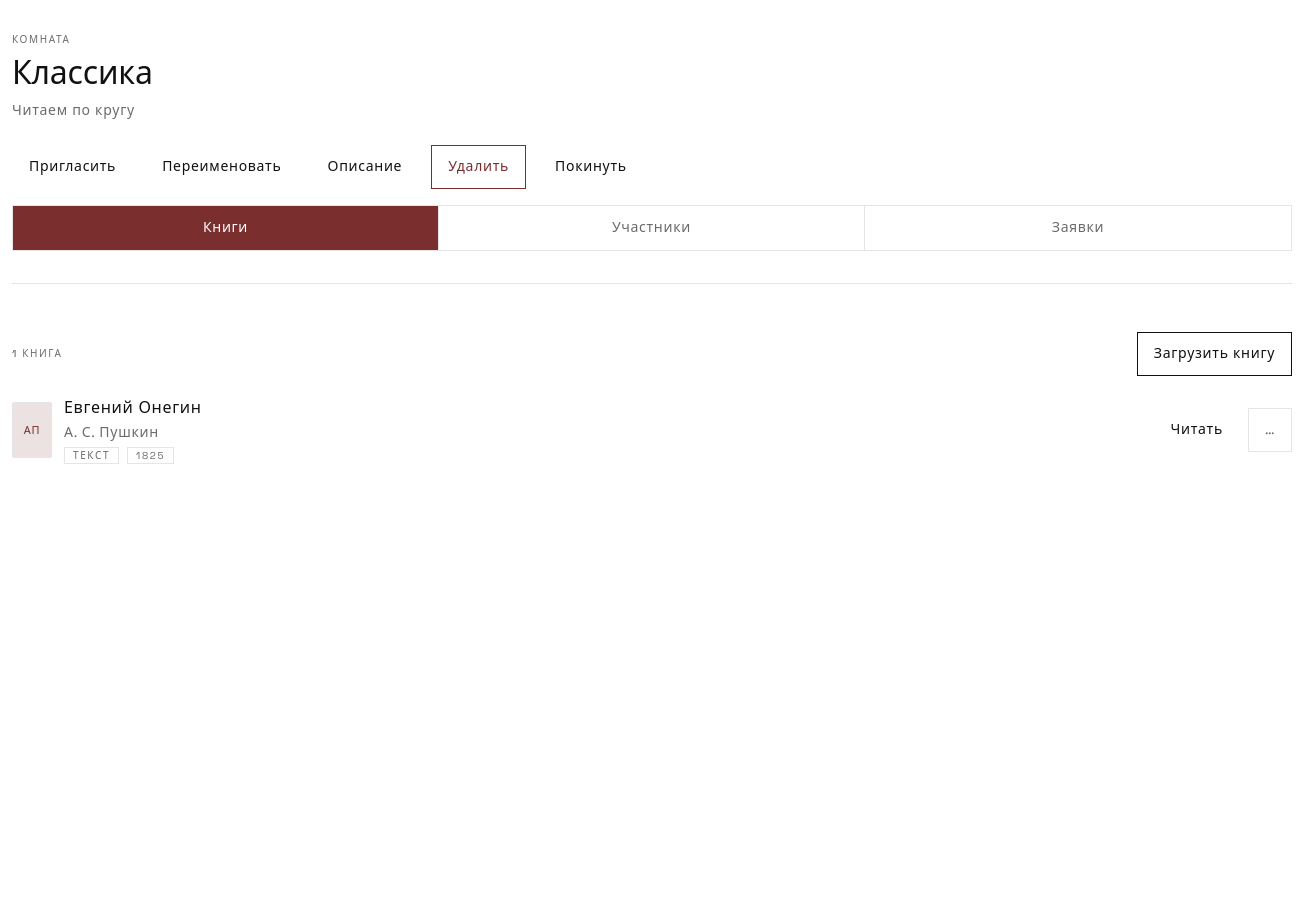
Test: шапка › без буфера обмена ссылка показывается текстом
Expected: the heading "Классика" is shown, top-left (12, 53), bottom-right (153, 93)
Step 1. Click the button "Пригласить" → coordinates (73, 167), box top-left (12, 145), bottom-right (133, 189)
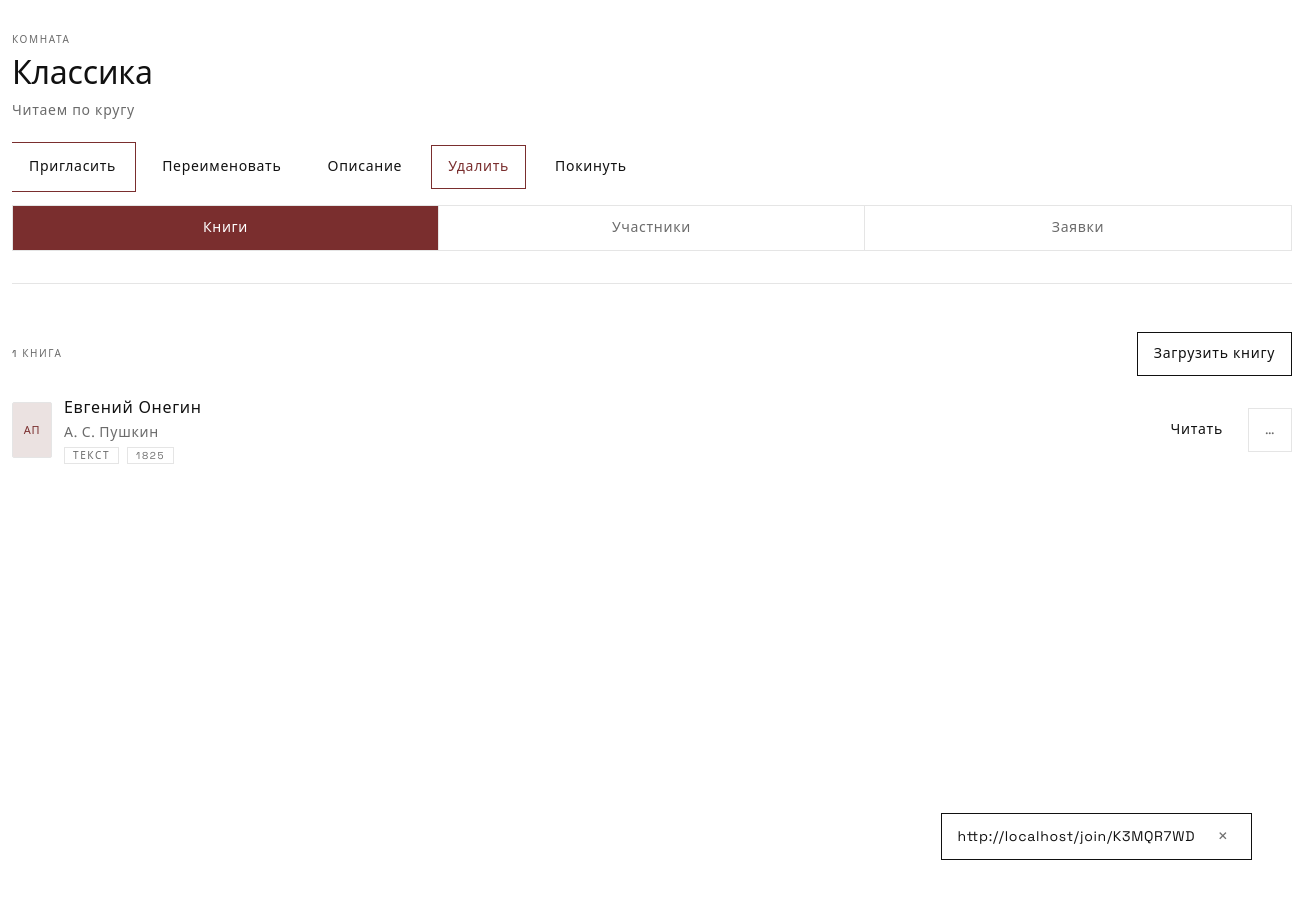
Expected: the message shows "/join/K3MQR7WD", top-left (958, 827), bottom-right (1195, 845)
